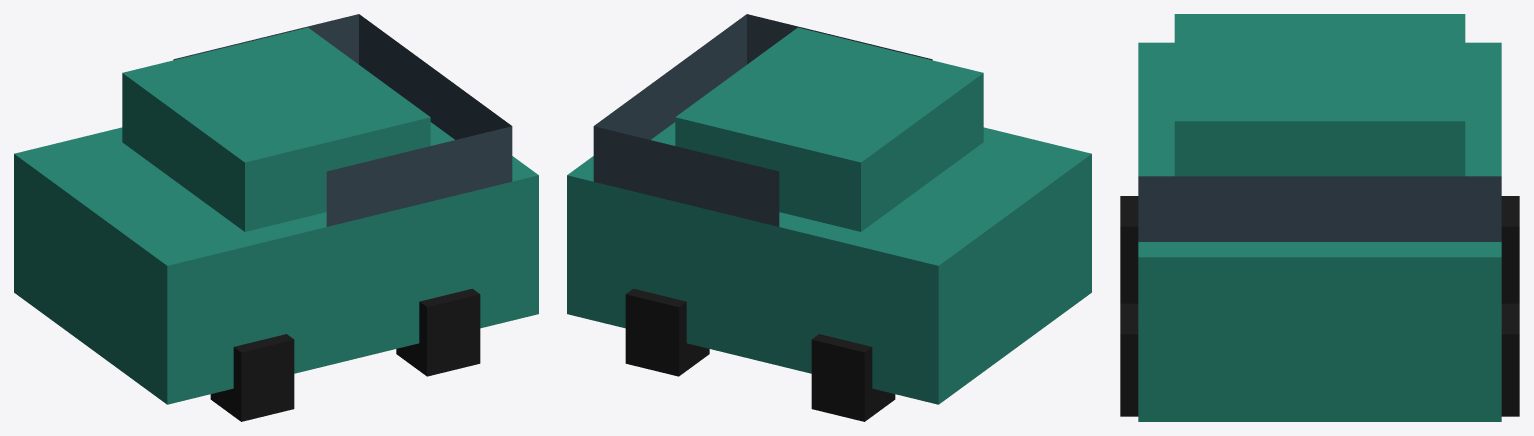
File: ugv_vehicle.dae
3 views of the same model, side by side, from view 1: azimuth 30°, elevation 25°; view 2: azimuth 150°, elevation 25°; view 3: azimuth 270°, elevation 25° (orthographic). The views are drawn at different scales.
Visible parts, largest first — view 1: ugv_vehicle; view 2: ugv_vehicle; view 3: ugv_vehicle.
Boxes of the visible parts, box(x1,y1,x2,y2) form: ugv_vehicle: box(14, 14, 538, 421); ugv_vehicle: box(567, 14, 1091, 421); ugv_vehicle: box(1120, 14, 1519, 421).
Bounding box in the file's own units: 0.28 × 0.22 × 0.17.
